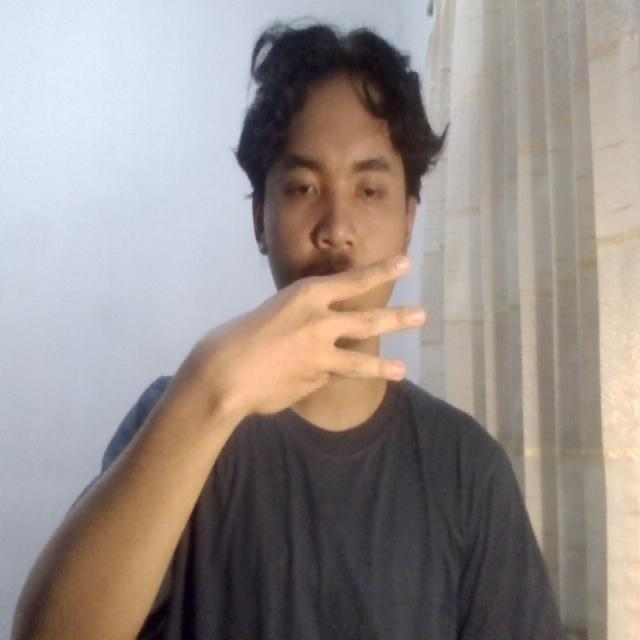E: (227, 240, 434, 441)
